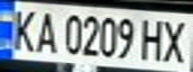0: (57, 10, 84, 56), (100, 13, 121, 60)
2: (78, 11, 103, 58)
9: (115, 14, 139, 61)
A: (30, 7, 60, 55)
H: (136, 16, 169, 62)
K: (3, 5, 42, 53)
X: (157, 16, 193, 64)
